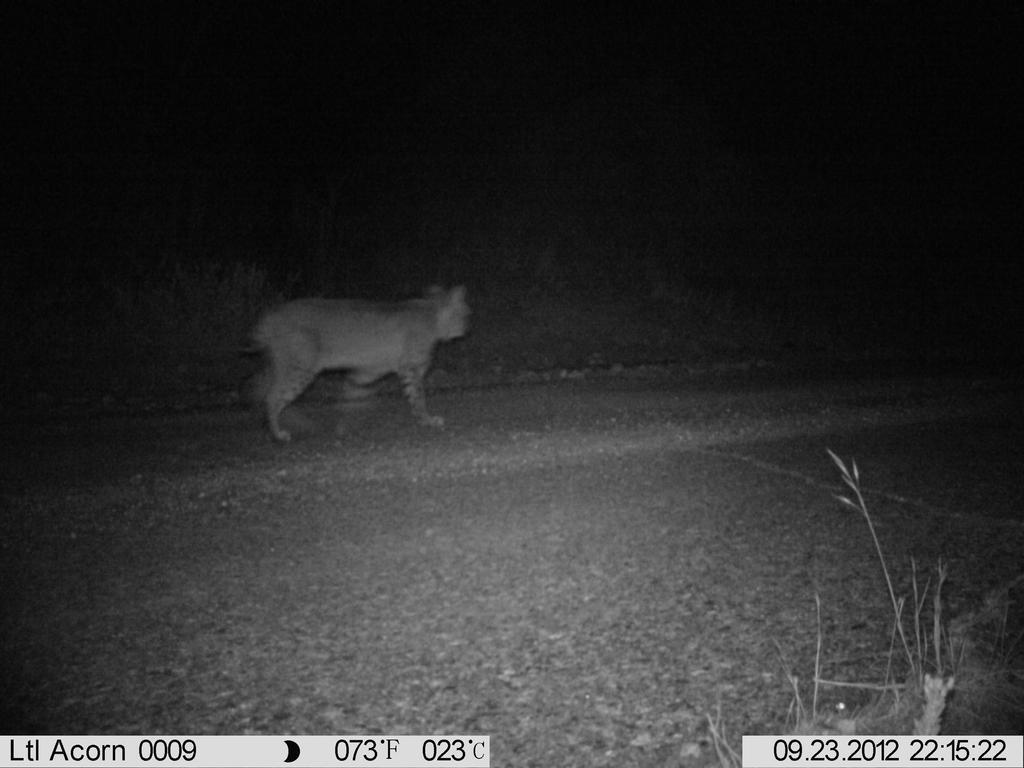bobcat: (237, 268, 489, 455)
